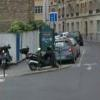Motorcycle: (22, 44, 65, 79)
